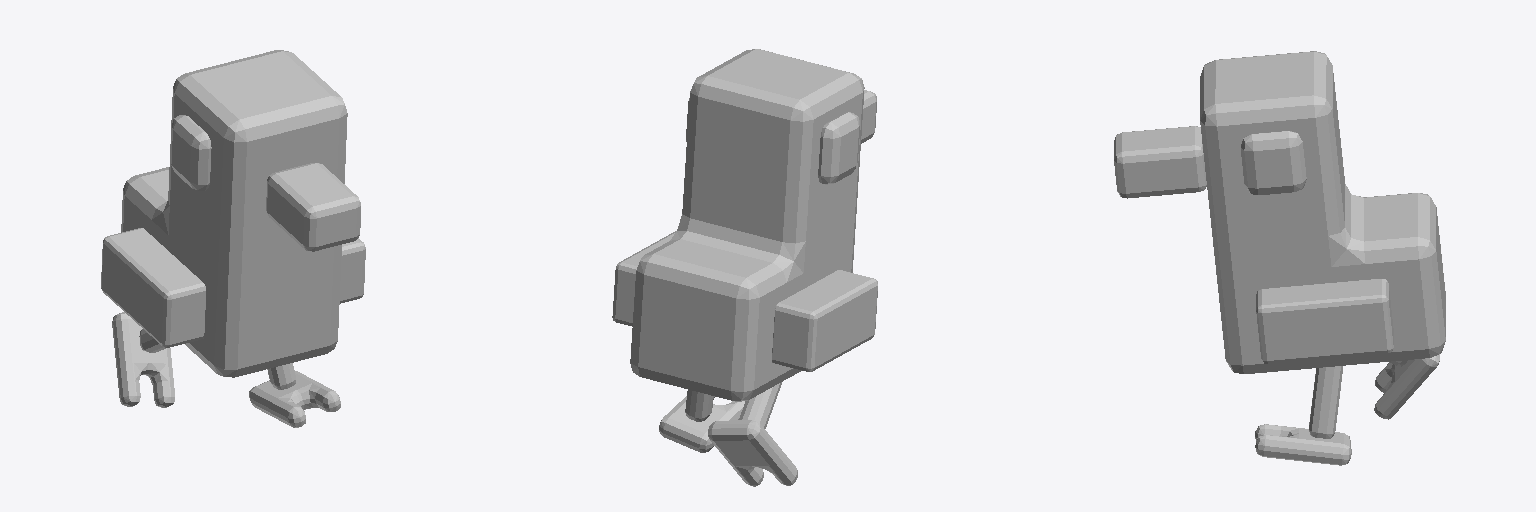
The model's file is Chick.obj.
3 renders of one model, left to right at view 1: azimuth 30°, elevation 25°; view 2: azimuth 150°, elevation 25°; view 3: azimuth 270°, elevation 25°, orthographic.
Visible parts, largest first — view 1: Chicken_Cube.054; view 2: Chicken_Cube.054; view 3: Chicken_Cube.054.
Boxes of the visible parts, x1,y1,x2,y2 form: Chicken_Cube.054: [101, 50, 365, 427]; Chicken_Cube.054: [612, 49, 877, 486]; Chicken_Cube.054: [1114, 51, 1445, 465].
Bounding box in the file's own units: 0.6145 × 1.06 × 0.8739.